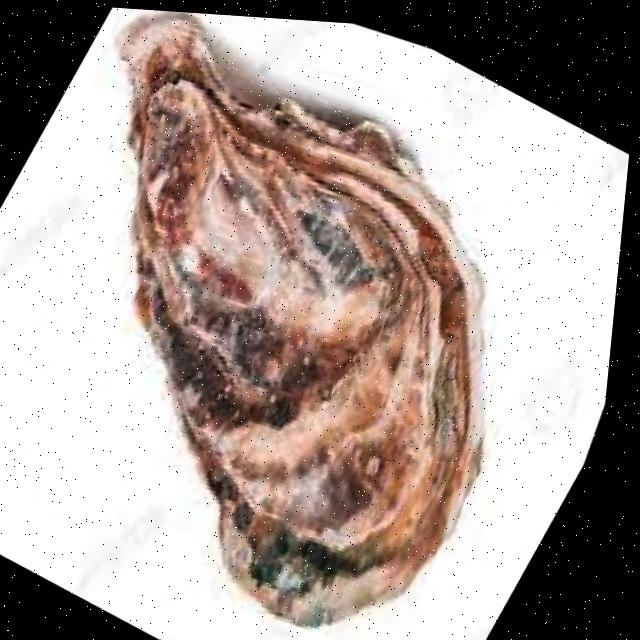Oyster-Closed: (120, 13, 484, 632)
